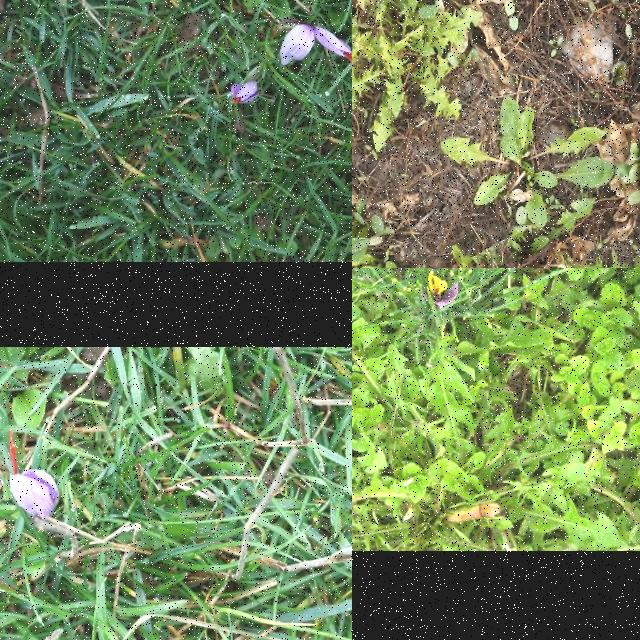flower: (10, 429, 58, 515), (281, 25, 352, 67), (232, 82, 260, 106)
